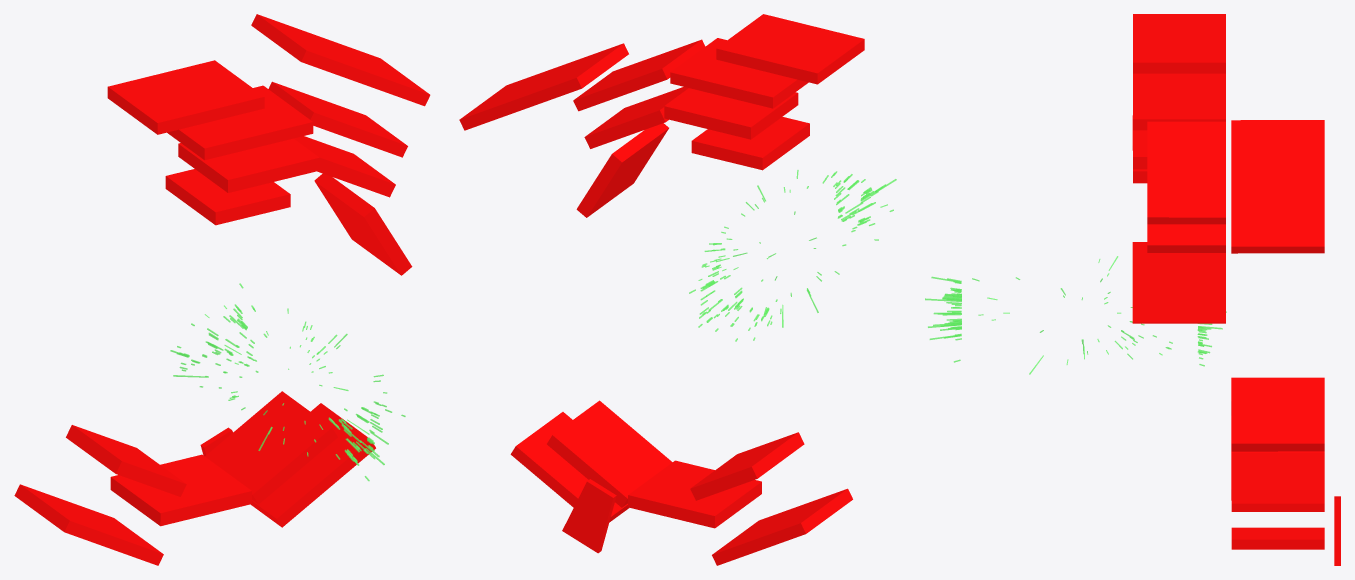
The picture shows the model from 3 angles, left to right: view 1: azimuth 30°, elevation 25°; view 2: azimuth 150°, elevation 25°; view 3: azimuth 270°, elevation 25°; orthographic projection. The views are drawn at different scales.
Visible parts, largest first — view 1: MuonChambers_V1, EERecHits_V2, EBRecHits_V2; view 2: MuonChambers_V1, EERecHits_V2, EBRecHits_V2; view 3: MuonChambers_V1, EERecHits_V2.
Boxes of the visible parts, x1,y1,x2,y2 form: MuonChambers_V1: [14, 14, 430, 565]; EERecHits_V2: [170, 283, 405, 481]; EBRecHits_V2: [173, 305, 387, 456]; MuonChambers_V1: [459, 14, 864, 565]; EERecHits_V2: [689, 171, 896, 341]; EBRecHits_V2: [698, 170, 887, 327]; MuonChambers_V1: [1132, 14, 1340, 565]; EERecHits_V2: [925, 276, 1226, 366].
Size of what is drawn, in the model's own units: 10.66 by 14 by 11.22.
